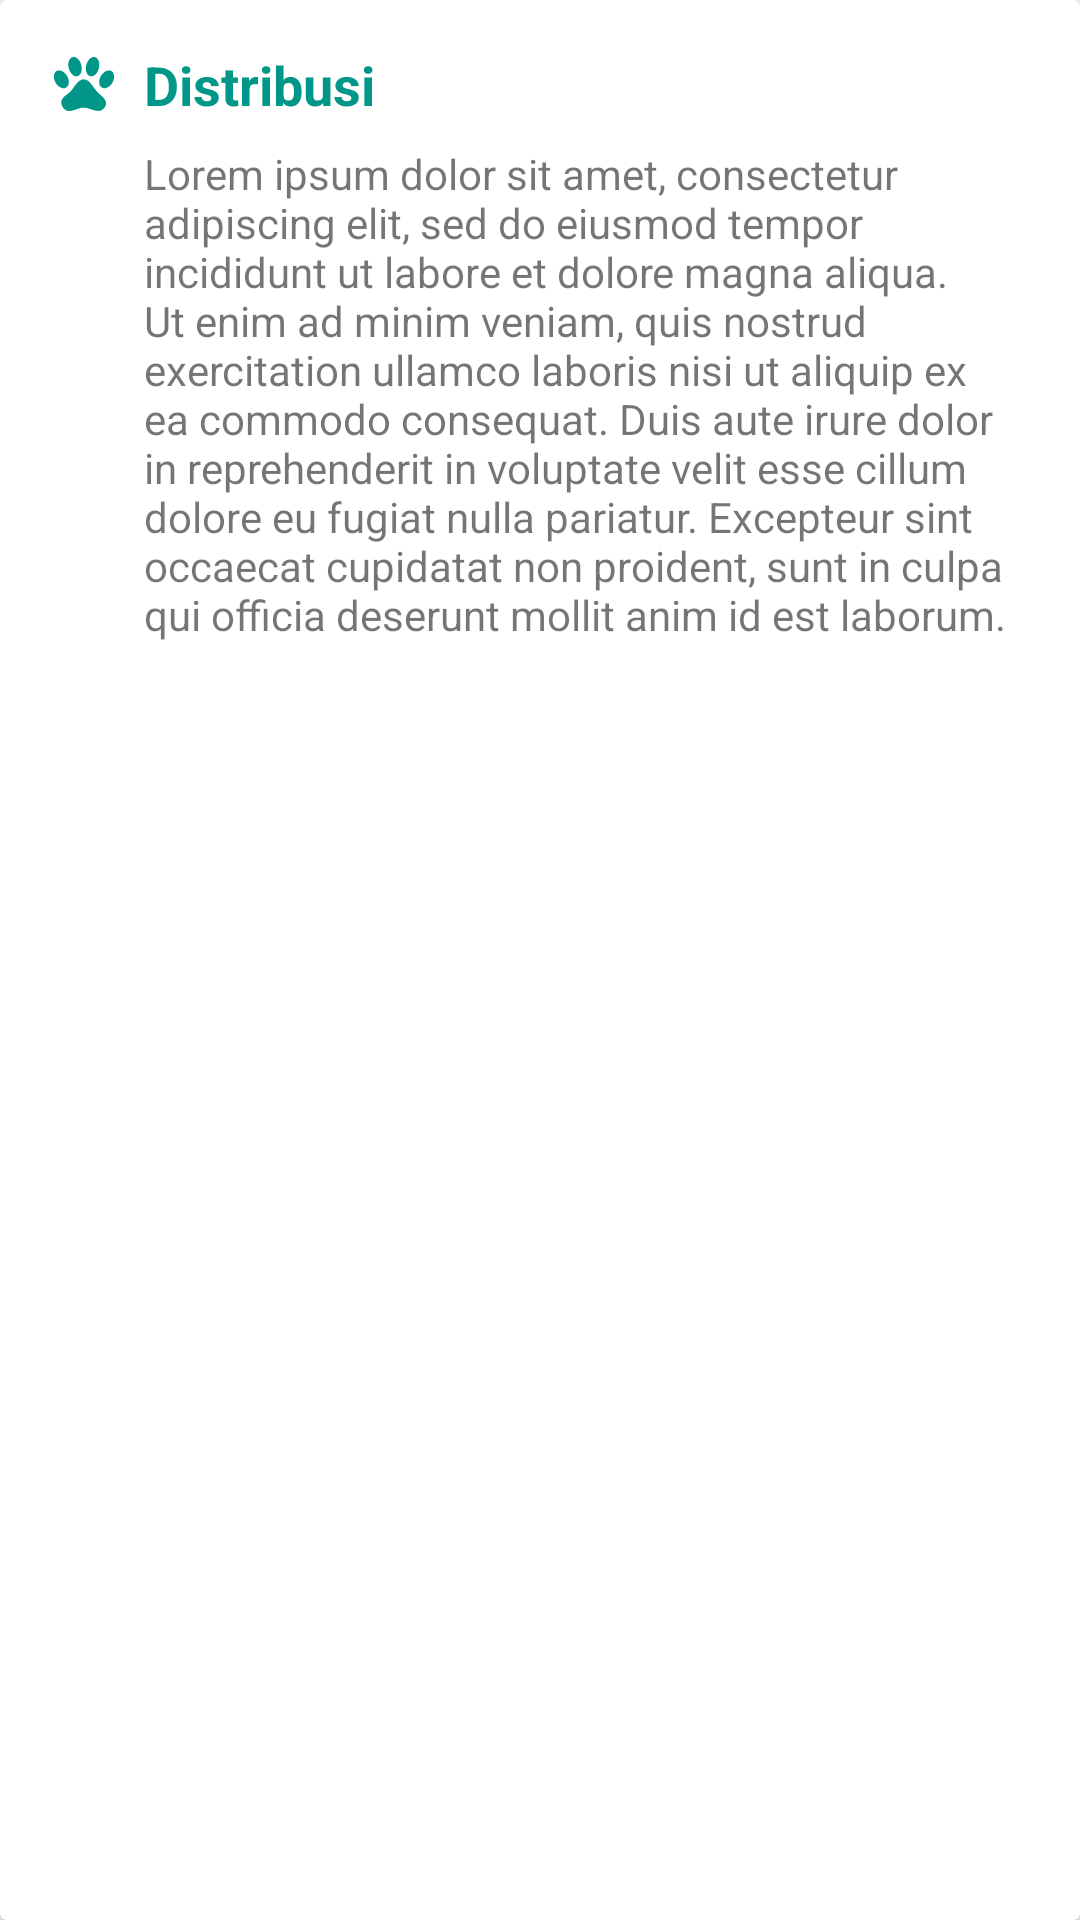

Locate icon controls on the screen. Image size 1080*1920, boxes as {"left": x1, "top": y1, "right": x2, "bottom": y2}.
paw: {"left": 54, "top": 57, "right": 114, "bottom": 111}
